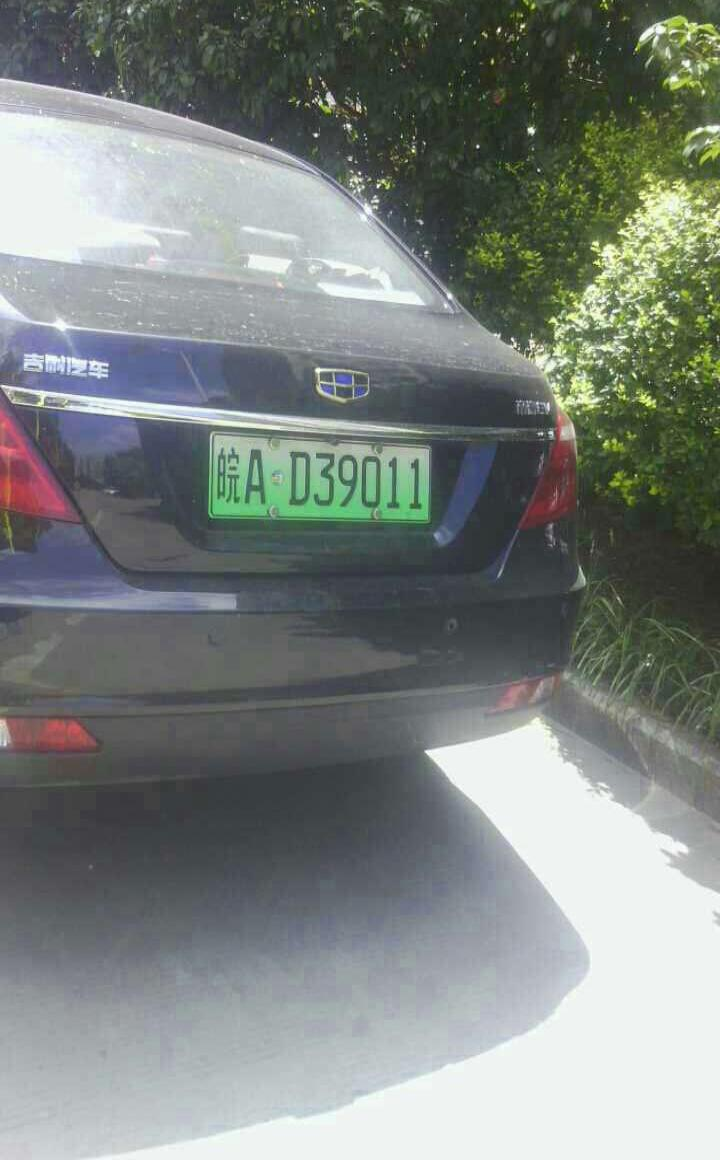car_id: (210, 433, 432, 520)
